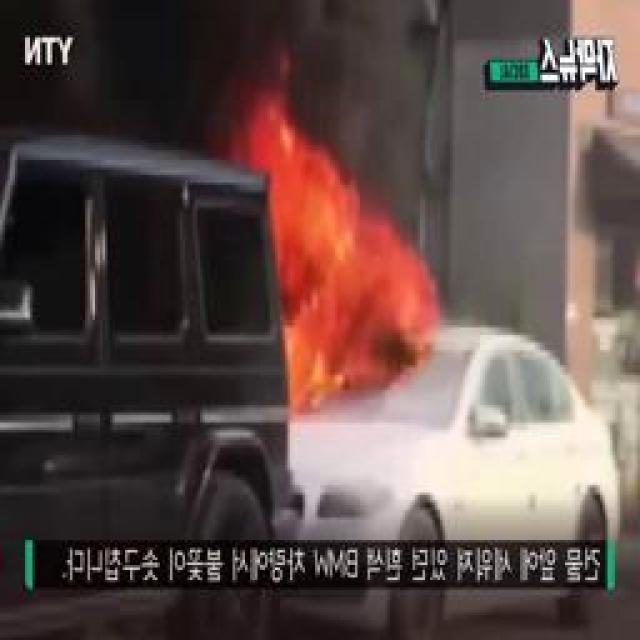Fire: (241, 135, 429, 388)
